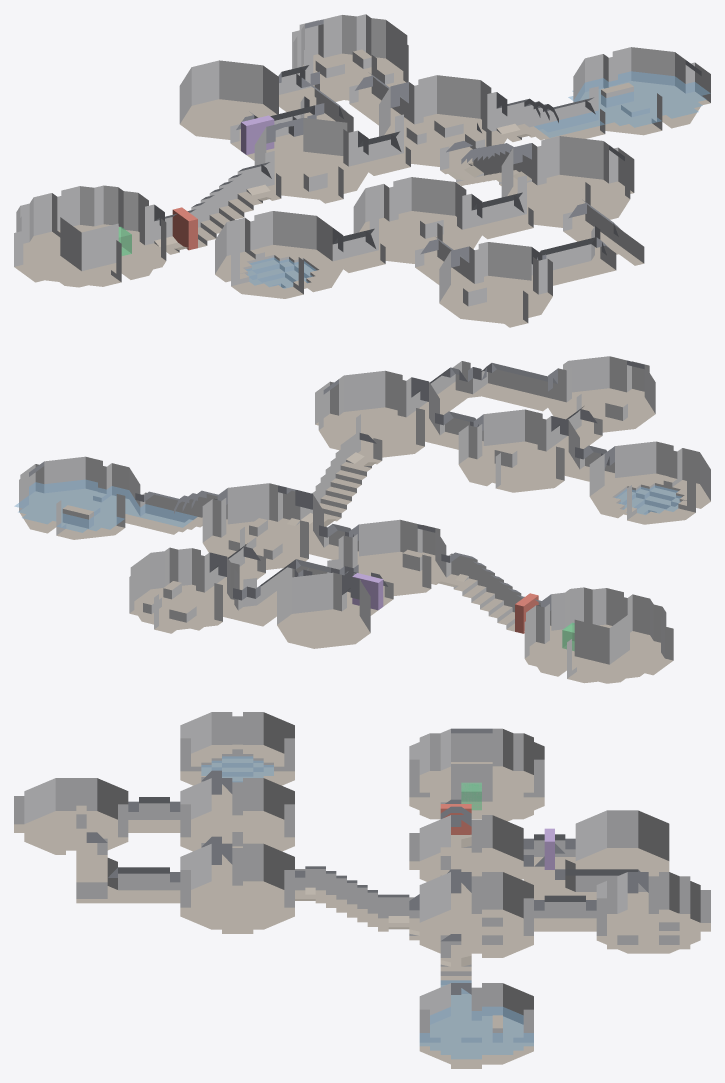
Rendered from pod_mining_05.glb.
3 views of the same model, one above another, from view 1: azimuth 30°, elevation 25°; view 2: azimuth 150°, elevation 25°; view 3: azimuth 270°, elevation 25° (orthographic). The views are drawn at different scales.
Parts seen in each view (by area): view 1: room:3, room:4, room:0, room:5, water, room:1, room:7, room:6, room:8, room:9, room:2, corridor:9 (+27 smaller); view 2: room:3, room:4, room:0, room:5, room:1, room:6, water, room:9, room:7, room:8, room:2, corridor:9 (+27 smaller); view 3: room:0, room:3, room:1, room:4, room:8, room:6, water, room:5, room:9, room:2, room:7, corridor:0 (+17 smaller).
Boxes of the visible parts, x1,y1,x2,y2 form: room:3: (16,185,166,287); room:4: (573,47,701,135); room:0: (501,136,630,228); room:5: (353,177,482,264); water: (245,71,710,288); room:1: (379,75,507,167); room:7: (215,211,343,298); room:6: (292,14,408,101); room:8: (439,242,552,323); room:9: (179,60,278,140); room:2: (254,117,368,199); corridor:9: (531,199,644,285); room:3: (524,587,666,683); room:4: (19,456,140,539); room:0: (318,370,439,458); room:5: (458,409,579,492); room:1: (202,483,323,570); room:6: (129,547,239,630); water: (14,479,681,532); room:9: (277,572,370,648); room:7: (589,441,710,524); room:8: (548,356,655,433); room:2: (338,519,446,596); corridor:9: (411,361,557,417); room:0: (180,843,294,929); room:3: (409,728,544,821); room:1: (419,872,533,957); room:4: (419,983,533,1064); room:8: (24,778,128,854); room:6: (596,872,700,953); water: (201,756,533,1059); room:5: (180,778,294,859); room:9: (575,810,669,876); room:2: (419,815,523,891); room:7: (180,712,294,793); corridor:0: (295,866,419,940).
Bounding box in the file's own units: 73 × 10 × 67.
